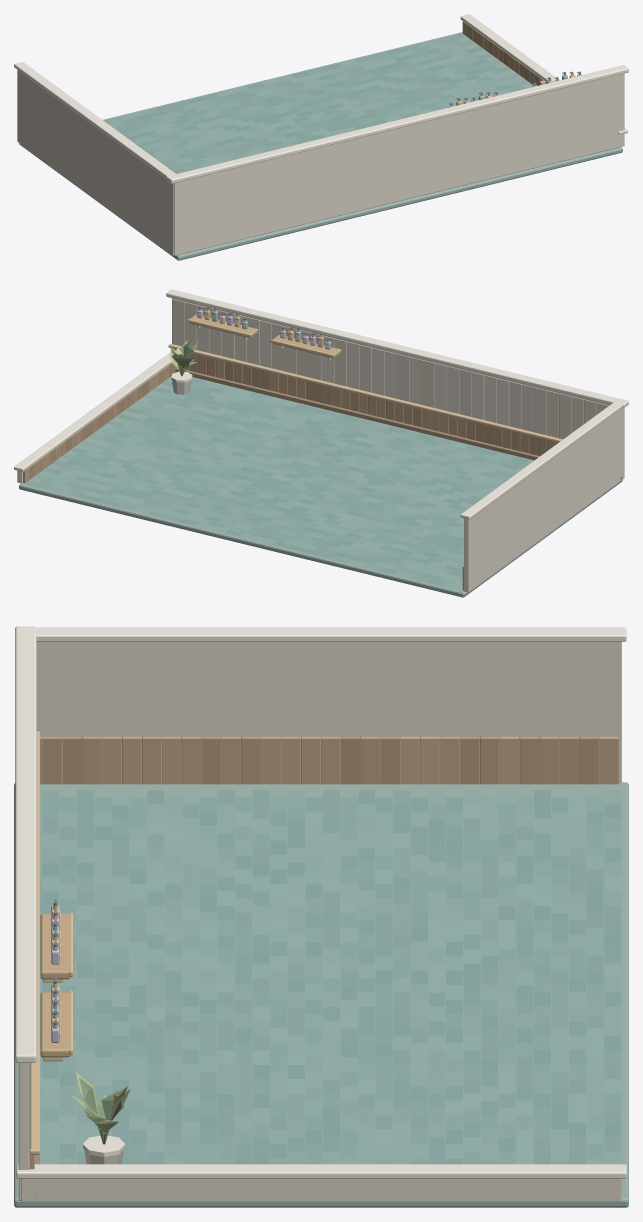
Rendered from room-finish.fbx.
3 renders of one model, top to bottom at view 1: azimuth 30°, elevation 25°; view 2: azimuth 150°, elevation 25°; view 3: azimuth 270°, elevation 25°, orthographic. The views are drawn at different scales.
Visible parts, largest first — view 1: room-finish; view 2: room-finish; view 3: room-finish.
Part boxes in pixels (x1,y1,x2,y2): room-finish: [14, 14, 628, 260]; room-finish: [14, 289, 628, 597]; room-finish: [14, 626, 628, 1207].
Size of the model in its own units: 2200 by 388 by 1330.
